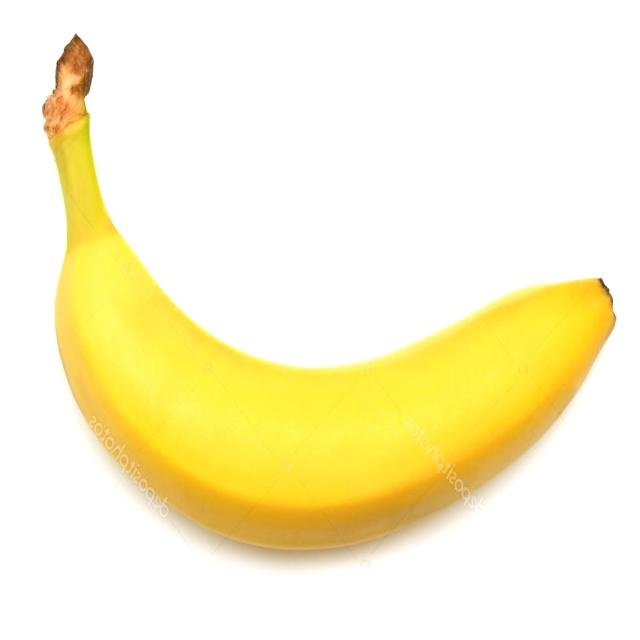agrume: (41, 44, 615, 560)
